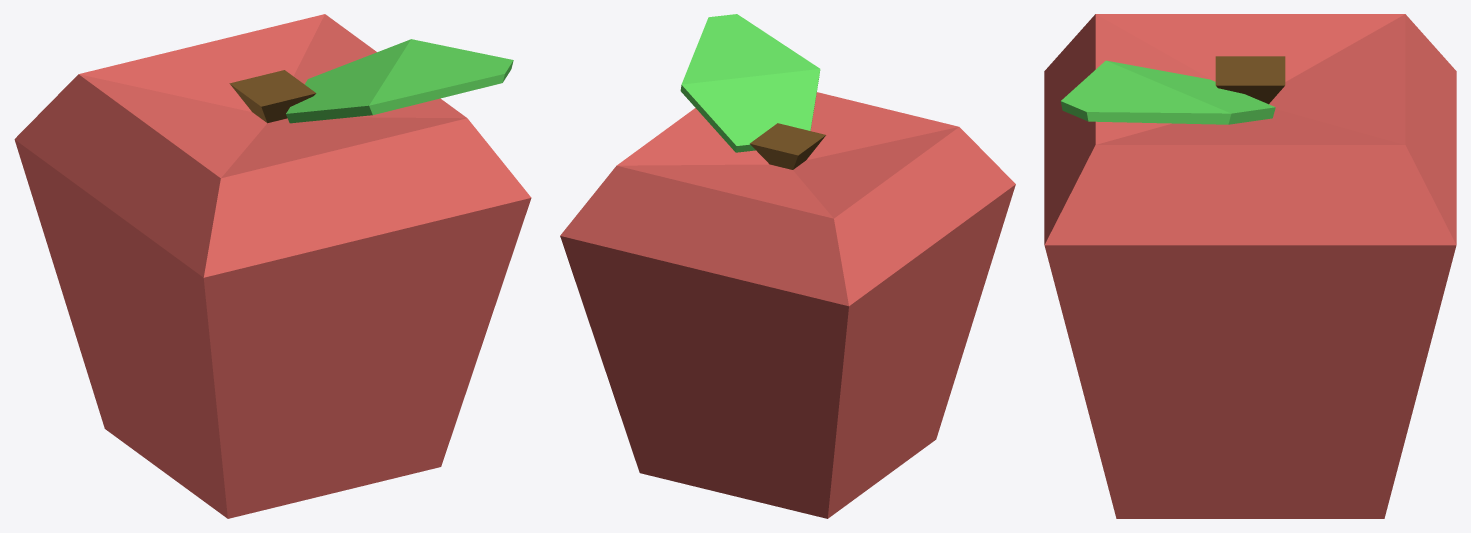
File: item_apple.fbx
3 views of the same model, side by side, from view 1: azimuth 30°, elevation 25°; view 2: azimuth 150°, elevation 25°; view 3: azimuth 270°, elevation 25° (orthographic). The views are drawn at different scales.
Visible parts, largest first — view 1: item_apple; view 2: item_apple; view 3: item_apple.
Part boxes in pixels (left/top/right/bottom): item_apple: left=14, top=14, right=531, bottom=518; item_apple: left=560, top=14, right=1015, bottom=518; item_apple: left=1044, top=14, right=1456, bottom=518.
Bounding box in the file's own units: 350 × 408 × 348.
